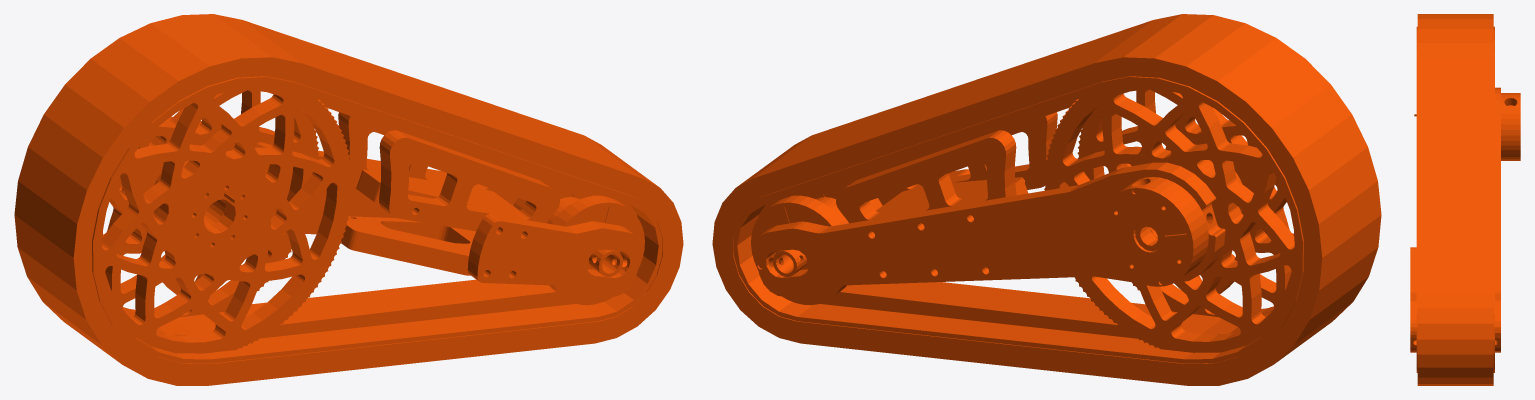
Rendered from rear-left.dae.
3 views of the same model, side by side, from view 1: azimuth 30°, elevation 25°; view 2: azimuth 150°, elevation 25°; view 3: azimuth 270°, elevation 25° (orthographic). The views are drawn at different scales.
Visible parts, largest first — view 1: Flipper-rear-left; view 2: Flipper-rear-left; view 3: Flipper-rear-left.
Part boxes in pixels (x1,y1,x2,y2): Flipper-rear-left: (14,14,683,385); Flipper-rear-left: (712,14,1381,385); Flipper-rear-left: (1410,14,1520,385).
Bounding box in the file's own units: 17.24 × 4.23 × 10.03.
